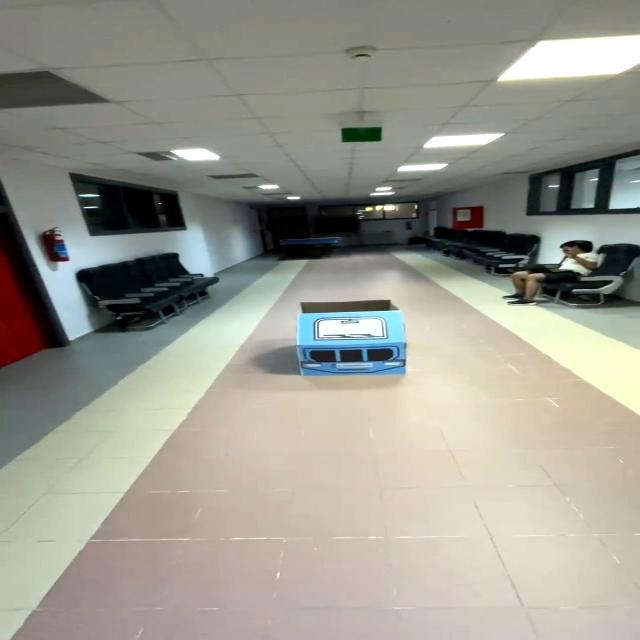blue_car: (267, 289, 421, 385)
